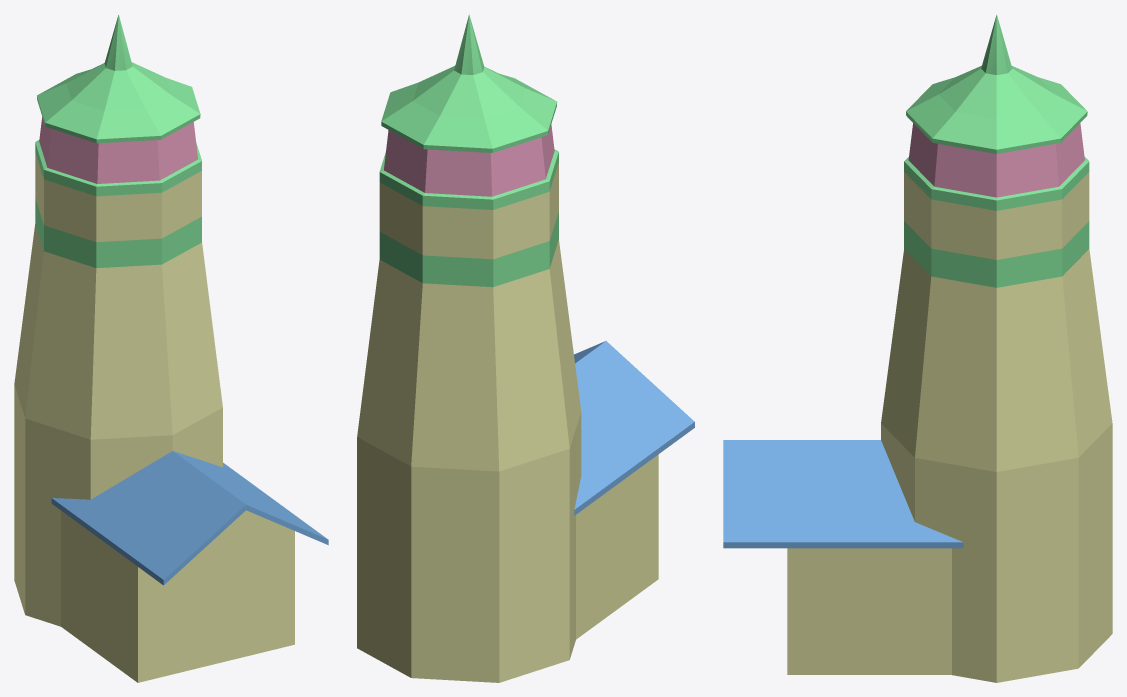
File: lighthouse.gltf
3 views of the same model, side by side, from view 1: azimuth 30°, elevation 25°; view 2: azimuth 150°, elevation 25°; view 3: azimuth 270°, elevation 25° (orthographic). The views are drawn at different scales.
Visible parts, largest first — view 1: Lighthouse; view 2: Lighthouse; view 3: Lighthouse.
Boxes of the visible parts, left/top/right/bottom form: Lighthouse: left=14, top=14, right=328, bottom=682; Lighthouse: left=357, top=14, right=694, bottom=682; Lighthouse: left=723, top=14, right=1112, bottom=682.
Size of the model in its own units: 7.82 by 23.11 by 13.14.
